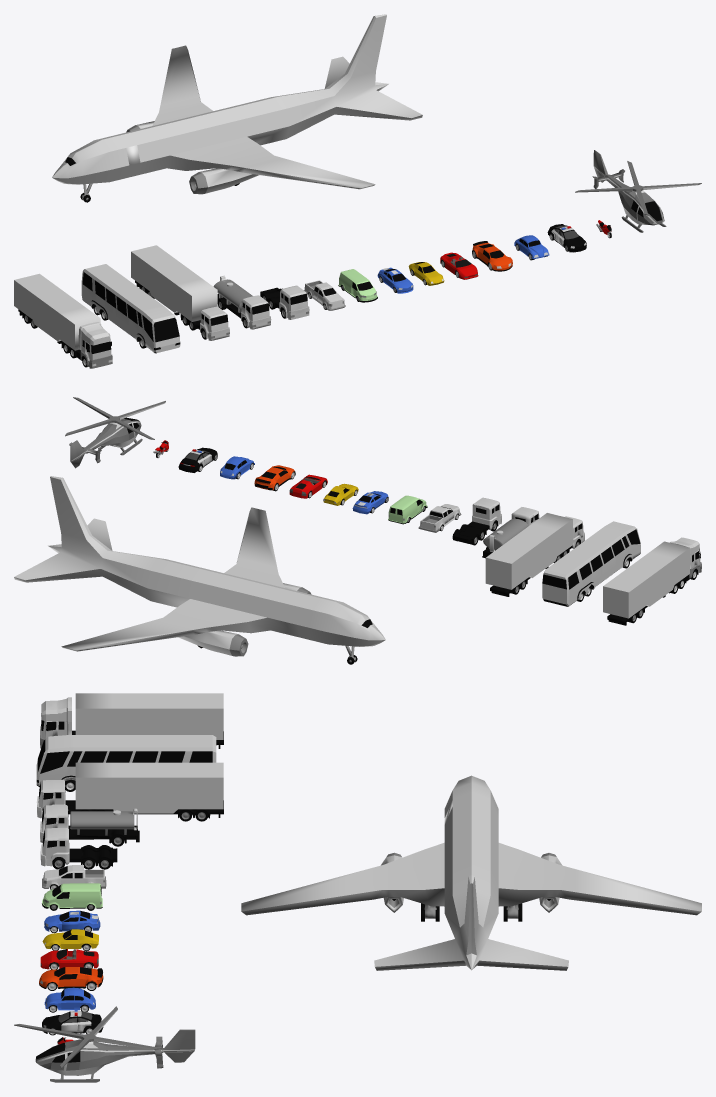
The model's file is PACK_CAR_2023.fbx.
The picture shows the model from 3 angles, top to bottom: view 1: azimuth 30°, elevation 25°; view 2: azimuth 150°, elevation 25°; view 3: azimuth 270°, elevation 25°; orthographic projection. The views are drawn at different scales.
Parts seen in each view (by area): view 1: AVIAO, ONIBUS, BAU, BAU.001, helicopter, CAMIAO.001, SCANIA, CAMIAO, CAMIAO.002, CARRO_002, helicopter_elic, BUGADO_carro (+3 smaller); view 2: AVIAO, ONIBUS, BAU, BAU.001, helicopter, CAMIAO, CAMIAO.001, helicopter_elic, CARRO_002, CARRO_003, BUGADO_carro, CARRO_police (+5 smaller); view 3: AVIAO, BAU, BAU.001, ONIBUS, helicopter, CAMIAO.001, CAMIAO, CARRO_002, helicopter_elic, SCANIA, BUGADO_carro, CARRO_003 (+6 smaller).
Boxes of the visible parts, x1,y1,x2,y2 form: AVIAO: (52,14,422,194); ONIBUS: (81,264,180,353); BAU: (131,245,217,321); BAU.001: (14,273,100,350); helicopter: (592,150,666,232); CAMIAO.001: (213,275,271,329); SCANIA: (61,322,112,368); CAMIAO: (260,285,309,319); CAMIAO.002: (180,306,229,340); CARRO_002: (338,269,377,302); helicopter_elic: (575,161,701,215); BUGADO_carro: (472,241,512,271); AVIAO: (14,476,385,656); ONIBUS: (542,521,640,606); BAU: (485,513,572,596); BAU.001: (603,541,689,625); helicopter: (69,417,142,468); CAMIAO: (452,497,501,544); CAMIAO.001: (482,507,539,558); helicopter_elic: (65,397,165,439); CARRO_002: (388,495,427,524); CARRO_003: (418,504,461,532); BUGADO_carro: (254,465,295,490); CARRO_police: (178,447,217,472); AVIAO: (241,775,701,970); BAU: (75,762,223,818); BAU.001: (75,693,223,748); ONIBUS: (36,735,216,786); helicopter: (35,1029,195,1082); CAMIAO.001: (40,805,139,843); CAMIAO: (40,828,117,866); CARRO_002: (42,883,102,908); helicopter_elic: (14,1006,162,1068); SCANIA: (40,697,75,748); BUGADO_carro: (39,967,103,988); CARRO_003: (42,865,106,888).
Bounding box in the file's own units: 6094 × 1087 × 4818.
